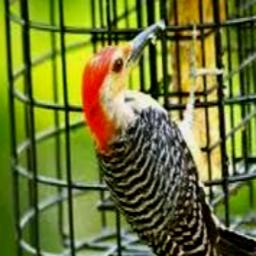Woodpecker: (81, 18, 256, 256)
